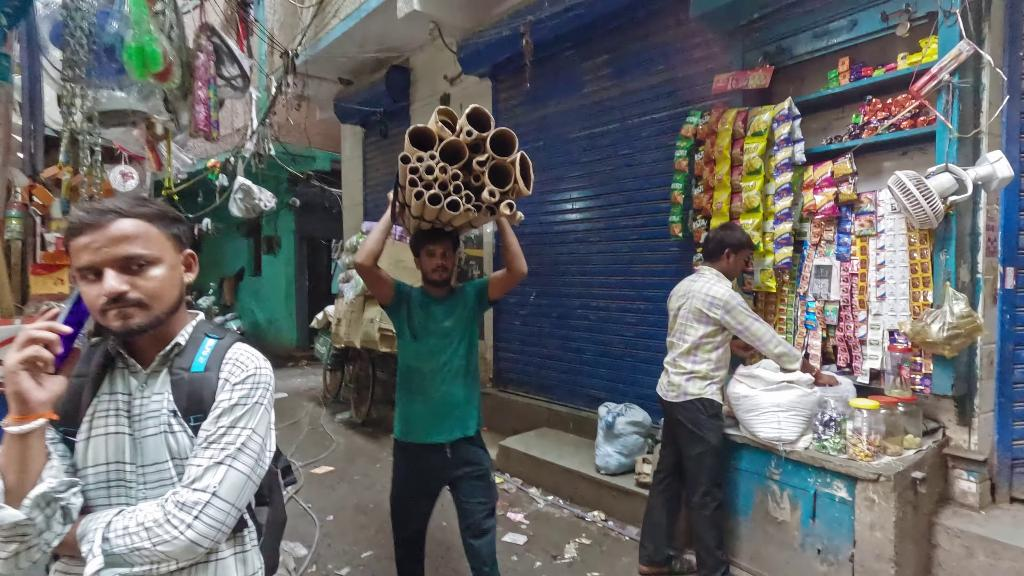garbage: (898, 288, 987, 358), (225, 171, 279, 220), (812, 187, 842, 218), (742, 140, 767, 176), (713, 134, 733, 164), (772, 243, 795, 269), (670, 169, 686, 204), (500, 531, 530, 547), (837, 245, 852, 260)
